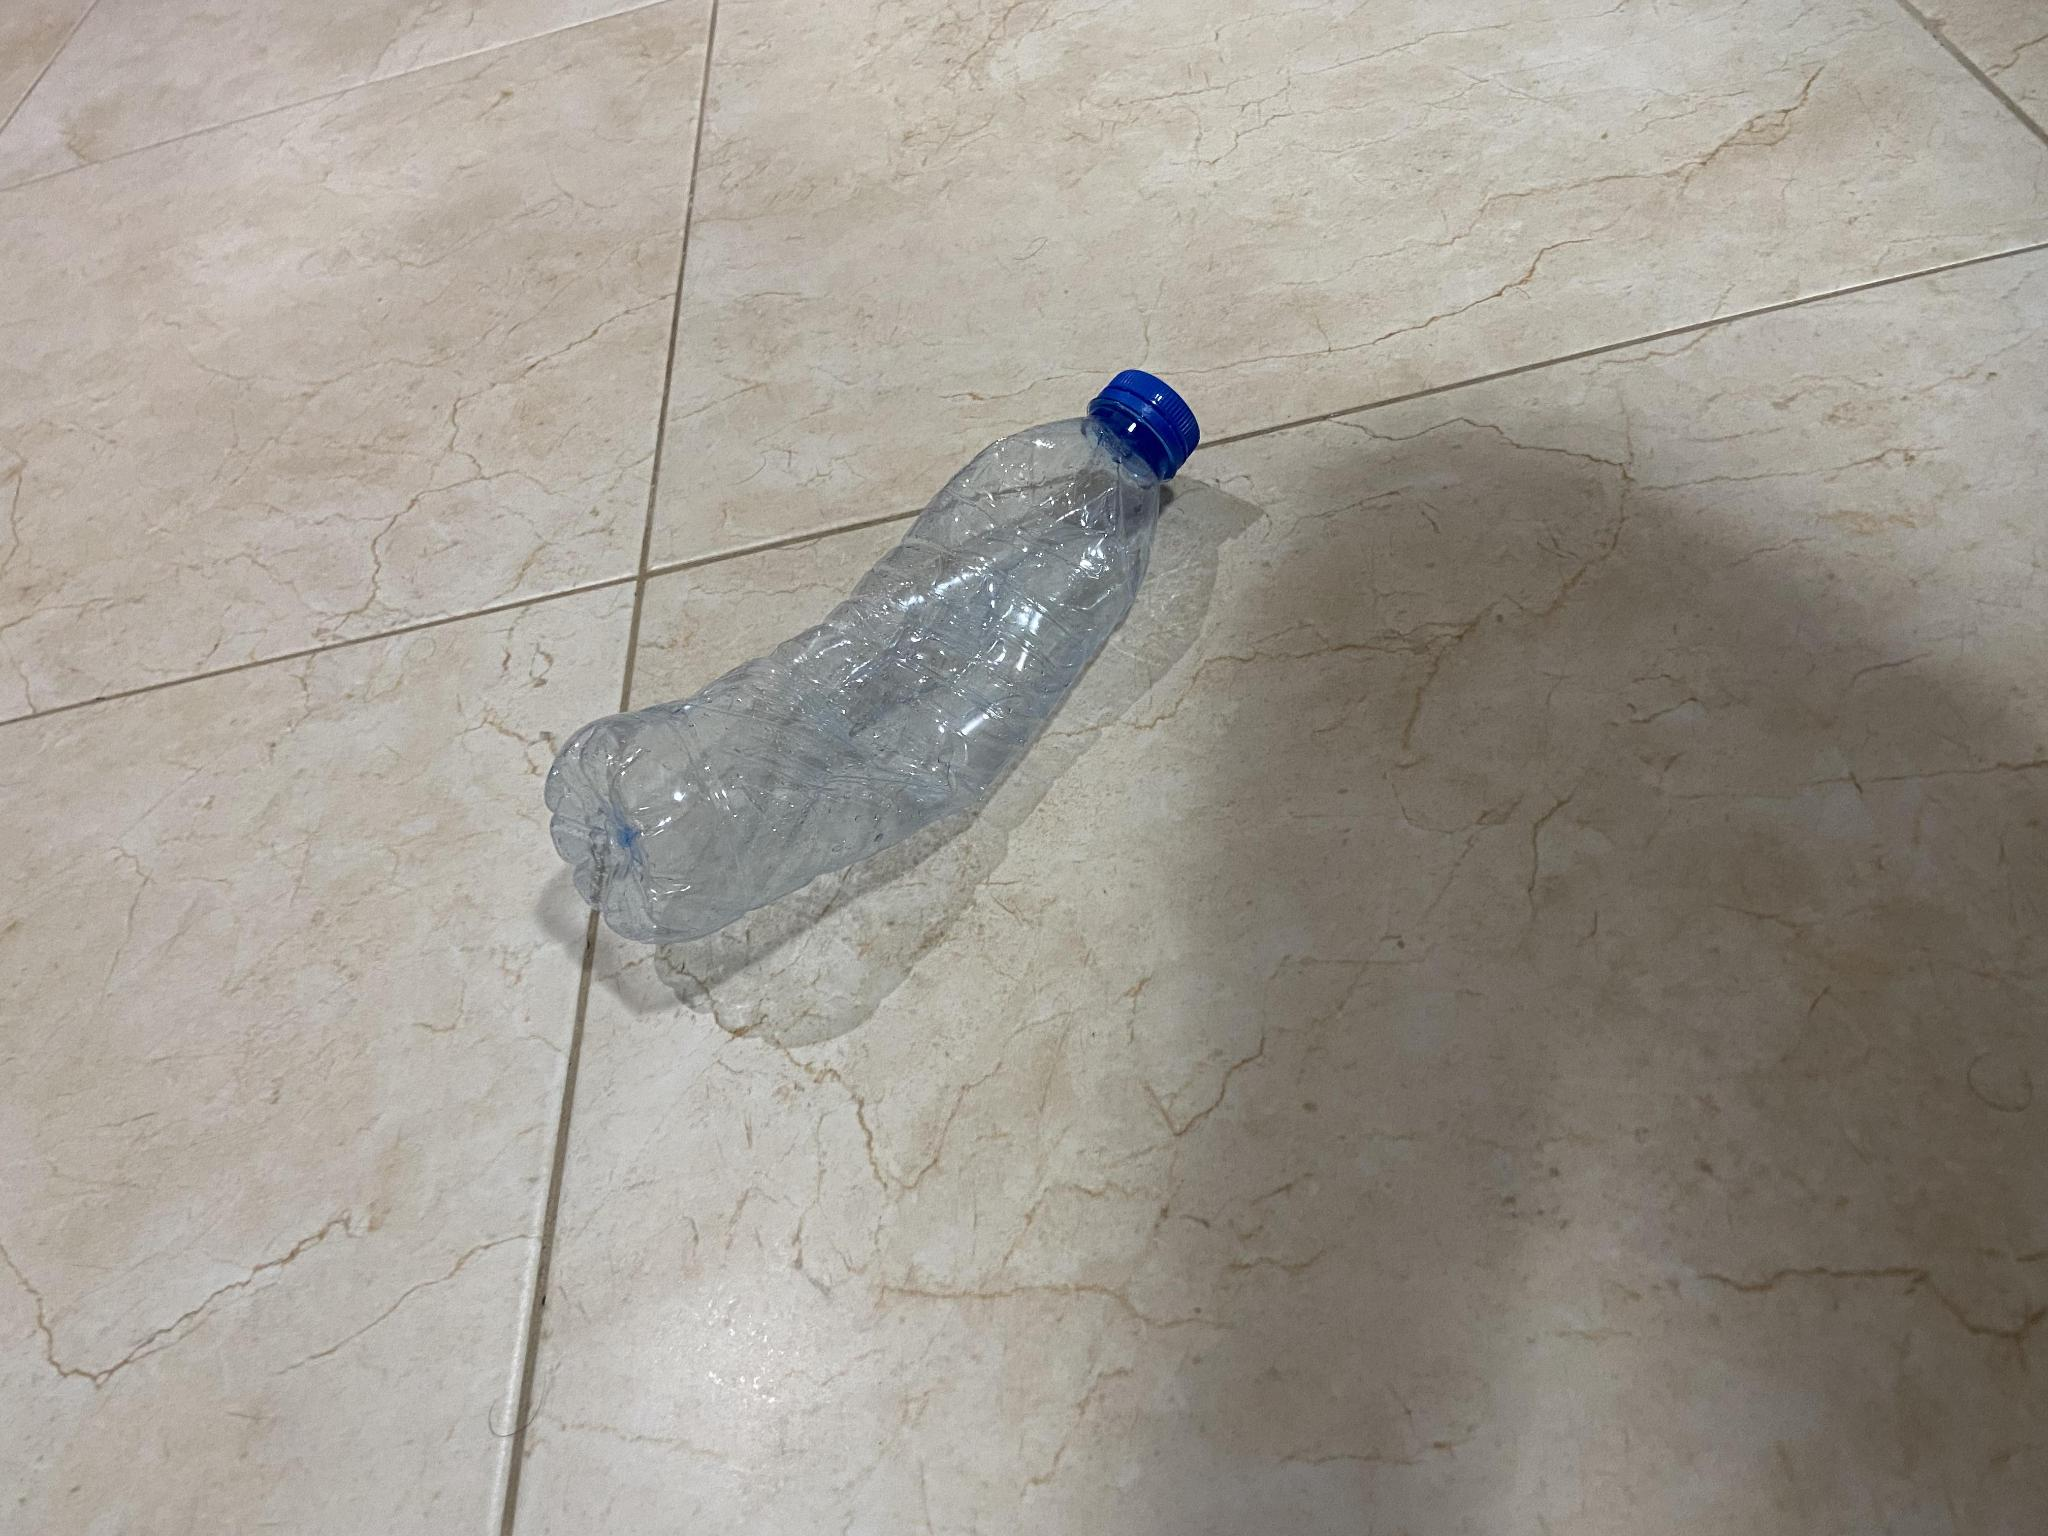bottle: (540, 349, 1240, 973)
